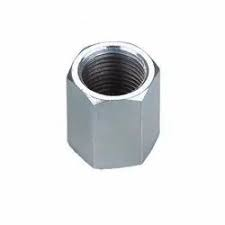Thread: (77, 45, 154, 100)
